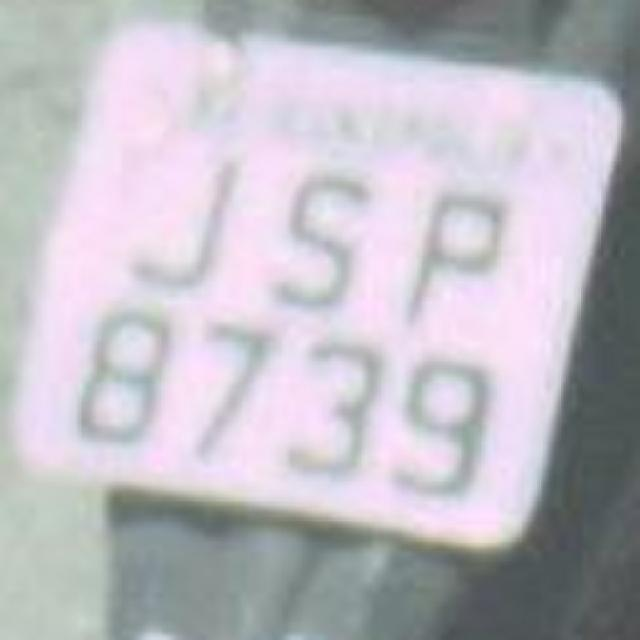3: (248, 312, 412, 496), (0, 1, 1, 2)
7: (168, 295, 284, 480)
8: (64, 272, 188, 476)
9: (372, 332, 516, 516)
J: (104, 135, 248, 300)
P: (389, 160, 516, 352)
S: (244, 160, 384, 325)
